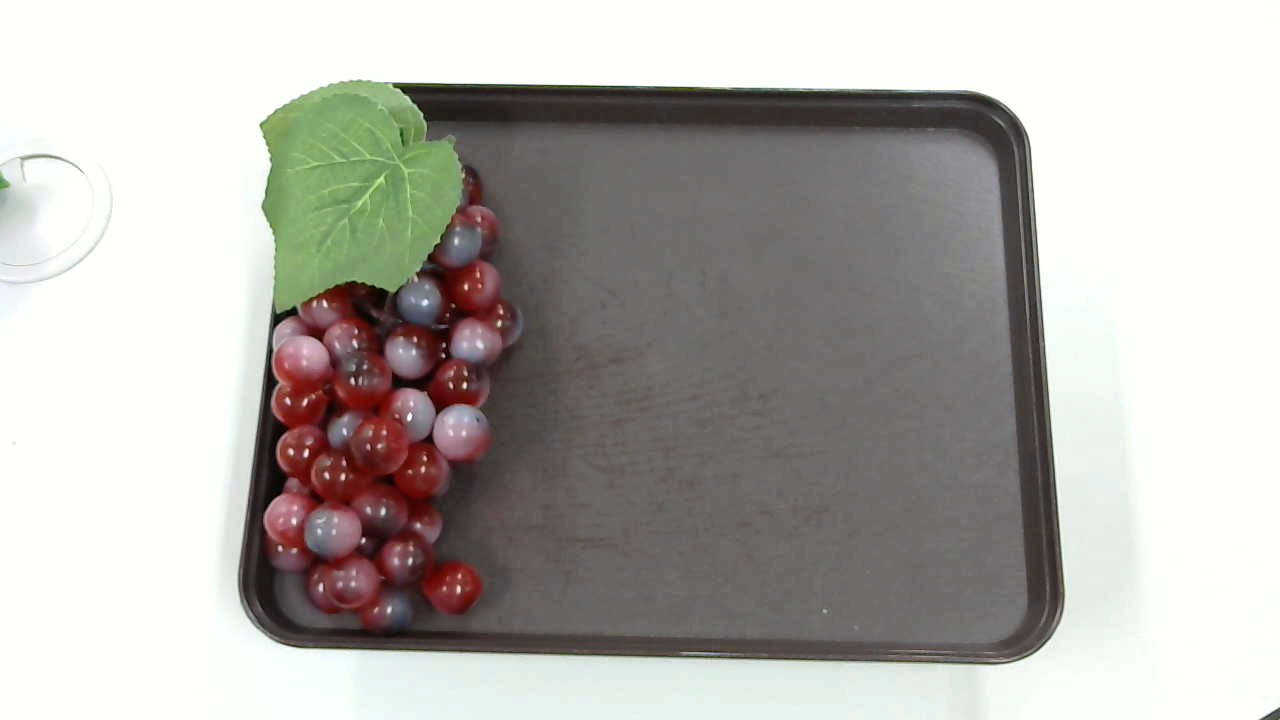grape: (244, 74, 535, 637)
